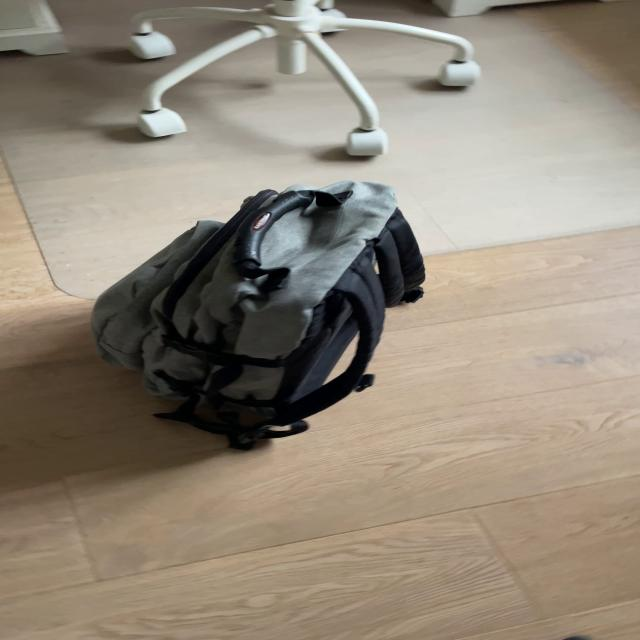backpack: (78, 170, 436, 454)
